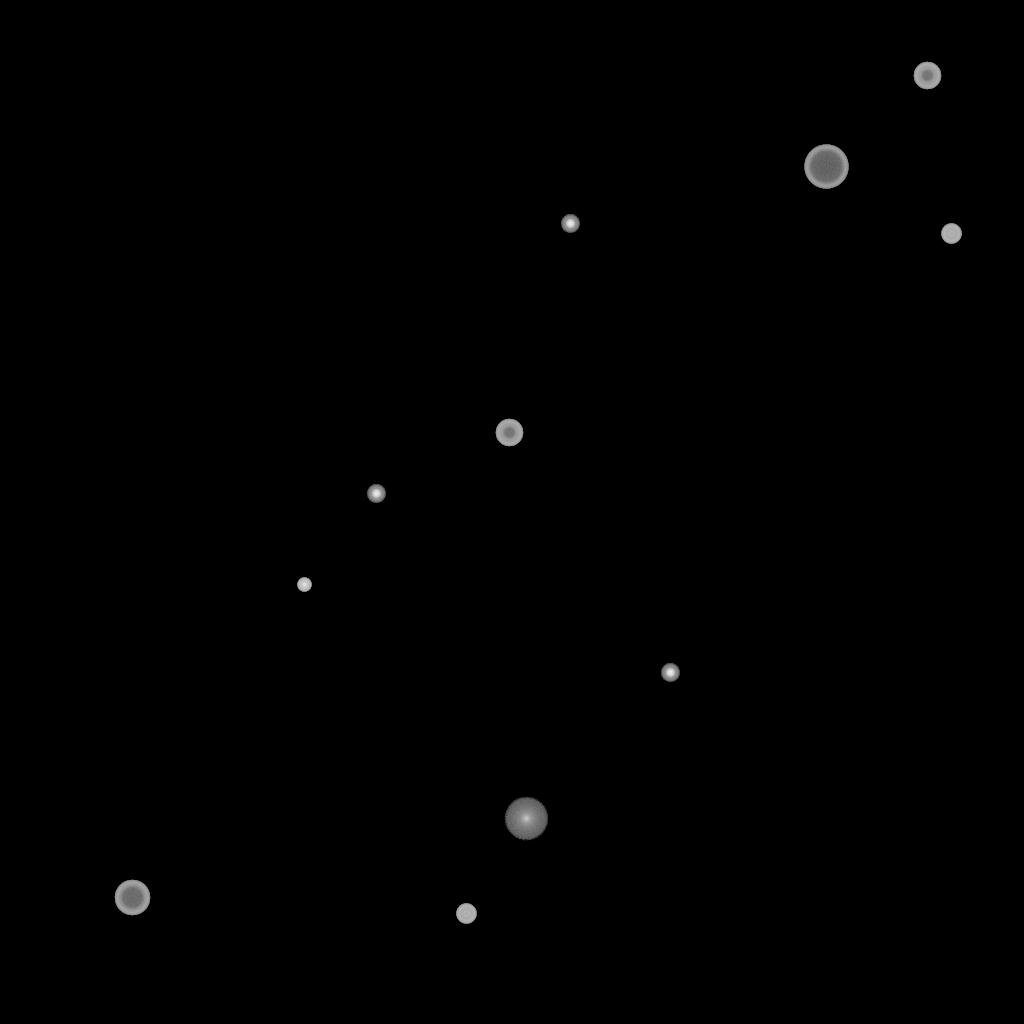depth:-20: (561, 215, 579, 233), (661, 664, 679, 682), (367, 485, 385, 503)
depth:-30: (297, 578, 311, 592)
depth:-40: (941, 224, 961, 244), (456, 904, 476, 924)
depth:-50: (913, 62, 941, 90), (495, 419, 523, 447)
depth:-60: (114, 880, 150, 916)
depth:-70: (804, 145, 848, 189)
depth:10: (504, 797, 548, 841)
